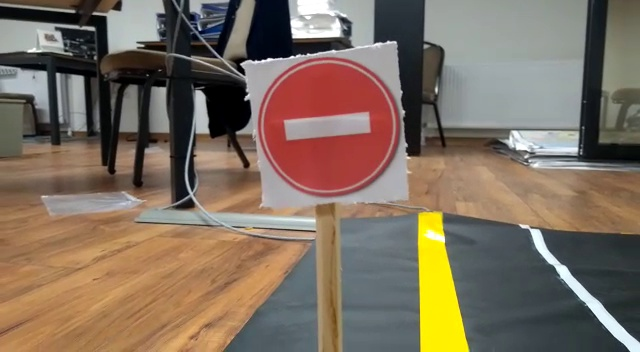girisi_olmayan_yol: (242, 52, 404, 203)
